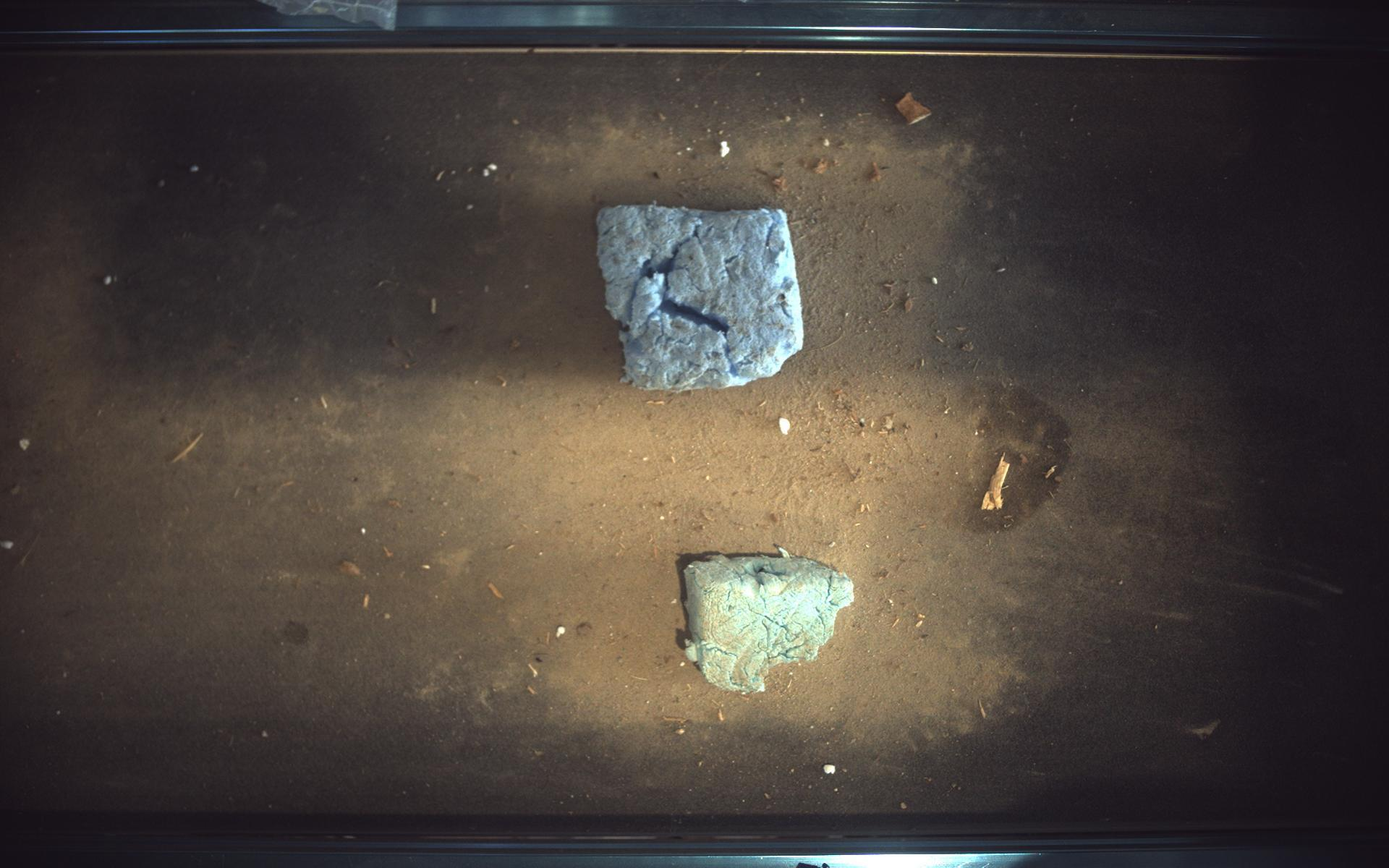foam: (599, 204, 805, 391), (687, 556, 855, 694)
